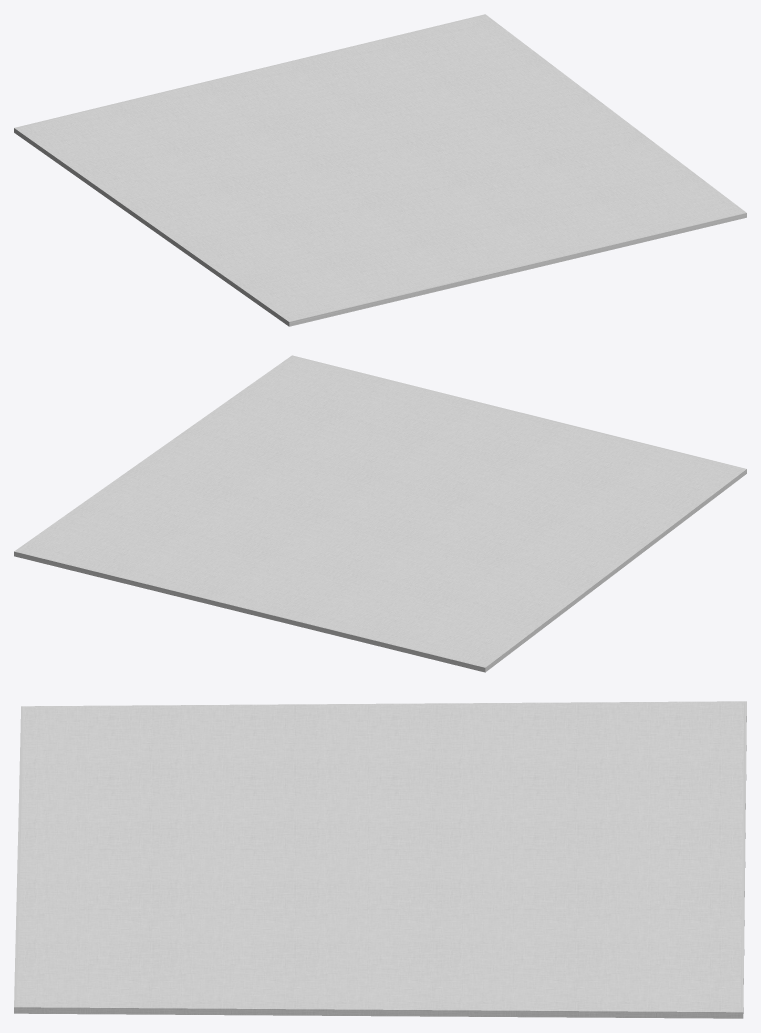
3 renders of one model, top to bottom at view 1: azimuth 30°, elevation 25°; view 2: azimuth 150°, elevation 25°; view 3: azimuth 270°, elevation 25°, orthographic. The views are drawn at different scales.
Parts seen in each view (by area): view 1: Ceiling#0_0; view 2: Ceiling#0_0; view 3: Ceiling#0_0.
Boxes of the visible parts, <box> form: Ceiling#0_0: <box>14,14,746,326</box>; Ceiling#0_0: <box>14,355,746,672</box>; Ceiling#0_0: <box>14,701,746,1018</box>.
Bounding box in the file's own units: 5.2 × 0.05 × 5.18.
1 material, 1 textured.
